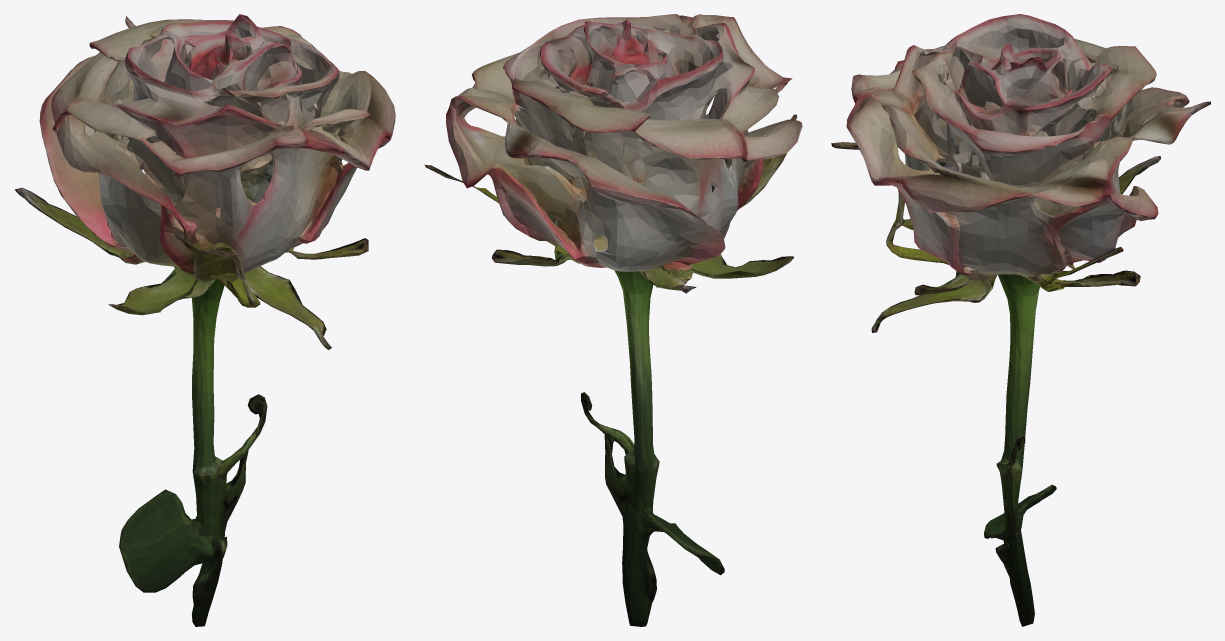
The picture shows the model from 3 angles, left to right: view 1: azimuth 30°, elevation 25°; view 2: azimuth 150°, elevation 25°; view 3: azimuth 270°, elevation 25°; orthographic projection.
Parts seen in each view (by area): view 1: world; view 2: world; view 3: world.
Boxes of the visible parts, x1,y1,x2,y2 form: world: (14,14,395,626); world: (424,14,802,626); world: (831,14,1210,626).
Size of the model in its own units: 0.5211 by 0.9616 by 0.5595.
1 material, 1 textured.
